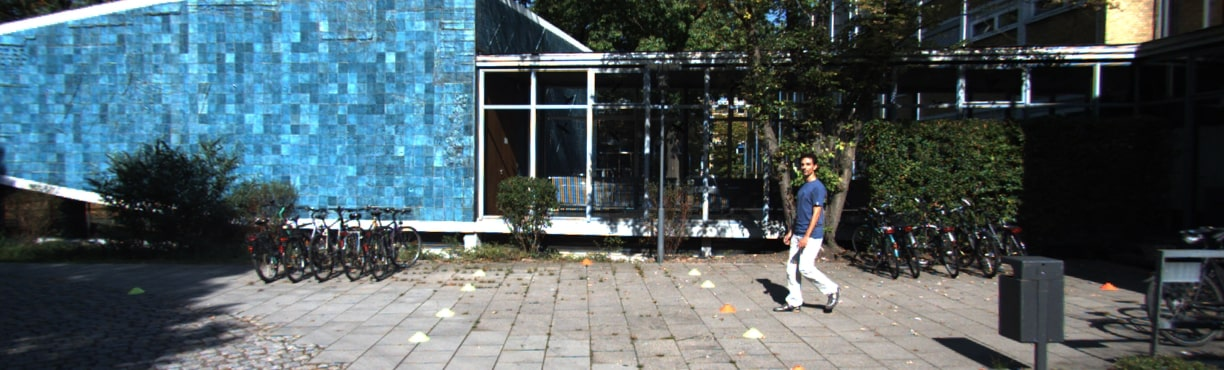person: (782, 154, 838, 325)
